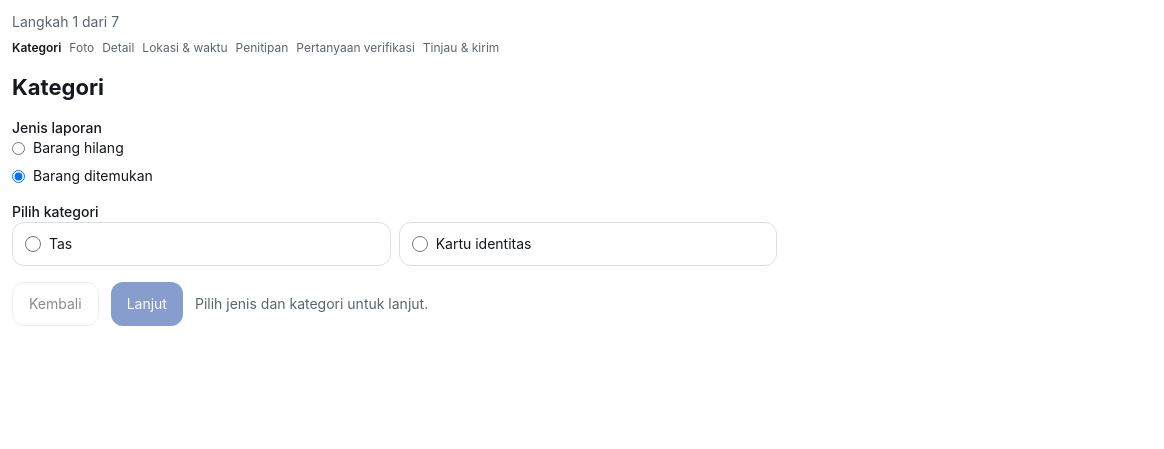
Test: reports/new wizard › shows the sensitive notice when a sensitive category is selected
Click the radio button labelled "Kartu identitas" at x=420, y=244, box [412,236,428,252]
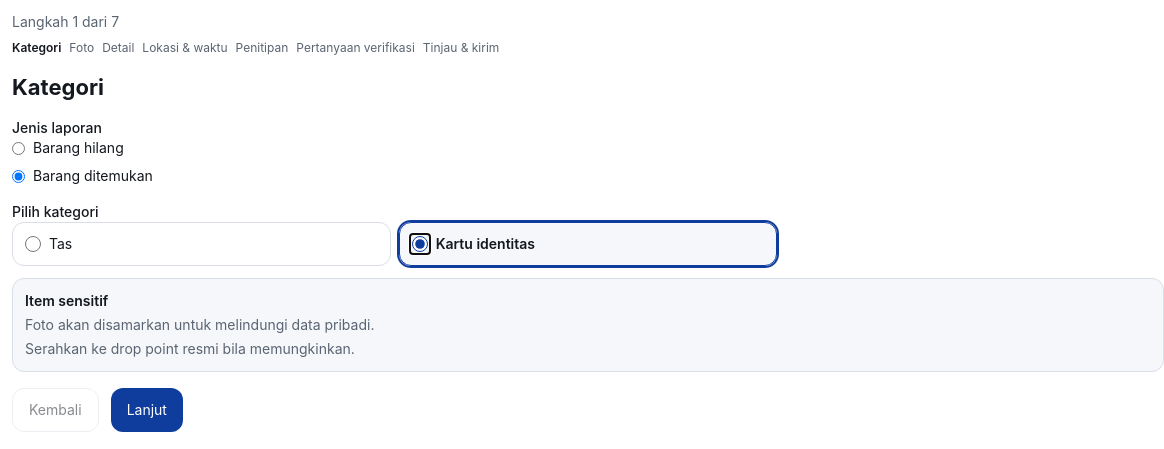
Check: the element with test id "sensitive-notice" shows "Item sensitif", box [25,292,108,309]
Check: the element with test id "sensitive-notice" shows "Serahkan ke drop point resmi bila memungkinkan.", box [25,340,355,357]
